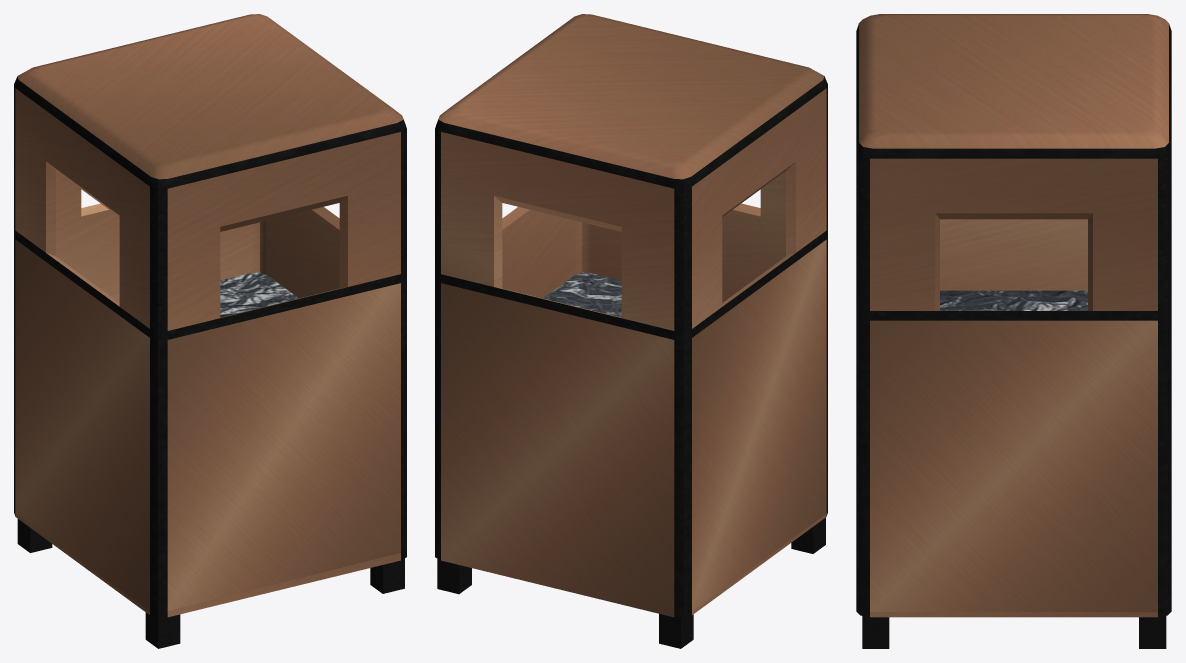
Rendered from ms_papperskorg.fbx.
3 renders of one model, left to right at view 1: azimuth 30°, elevation 25°; view 2: azimuth 150°, elevation 25°; view 3: azimuth 270°, elevation 25°, orthographic. The views are drawn at different scales.
Visible parts, largest first — view 1: ms_foot_2; view 2: ms_foot_2; view 3: ms_foot_2.
Boxes of the visible parts, x1,y1,x2,y2 form: ms_foot_2: (14,14,406,648); ms_foot_2: (435,14,827,648); ms_foot_2: (856,14,1171,648).
Bounding box in the file's own units: 31.99 × 57.12 × 31.99.
